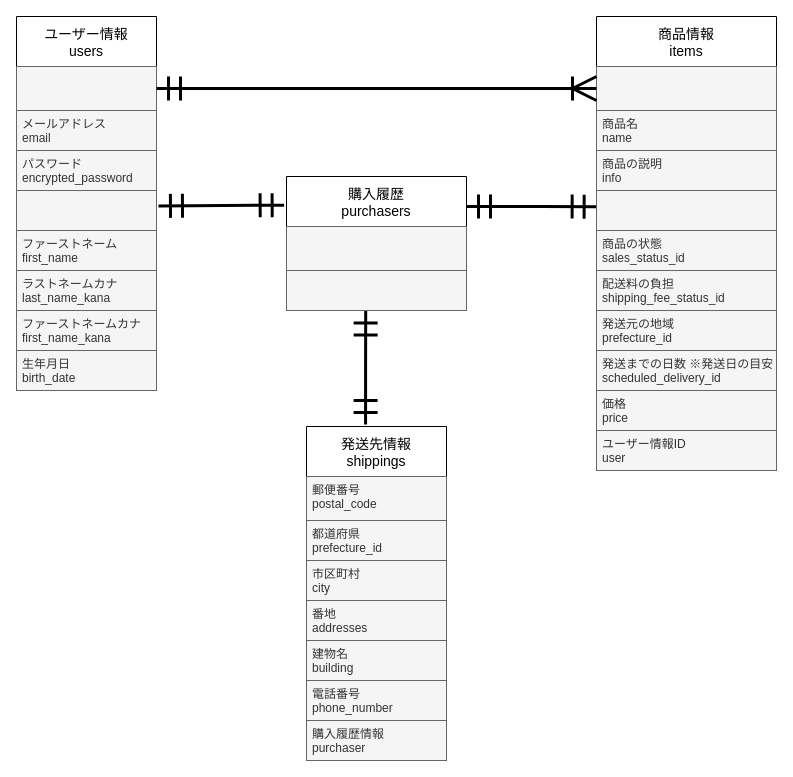
The diagram is 793 pixels wide and 777 high, and some of its shapes have lost their labels. The centre of each missing label's shape, as x and y in pixels:
"カテゴリー category_id" belongs at point 686,210.
"ニックネーム nickname" belongs at point 86,88.
"ラストネーム last_name" belongs at point 86,210.
"商品画像 image" belongs at point 686,88.
"購入商品情報 item" belongs at point 376,290.
"購入者情報 user" belongs at point 376,248.
